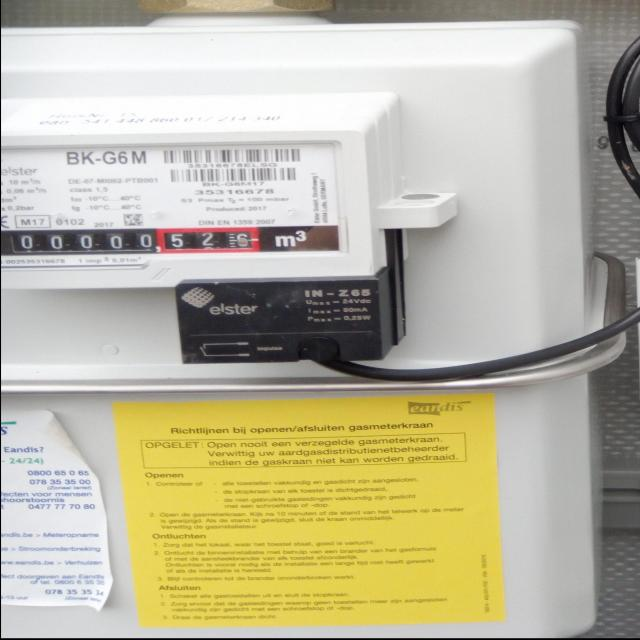gaz_meter: (0, 145, 346, 257)
indication: (1, 228, 265, 255)
